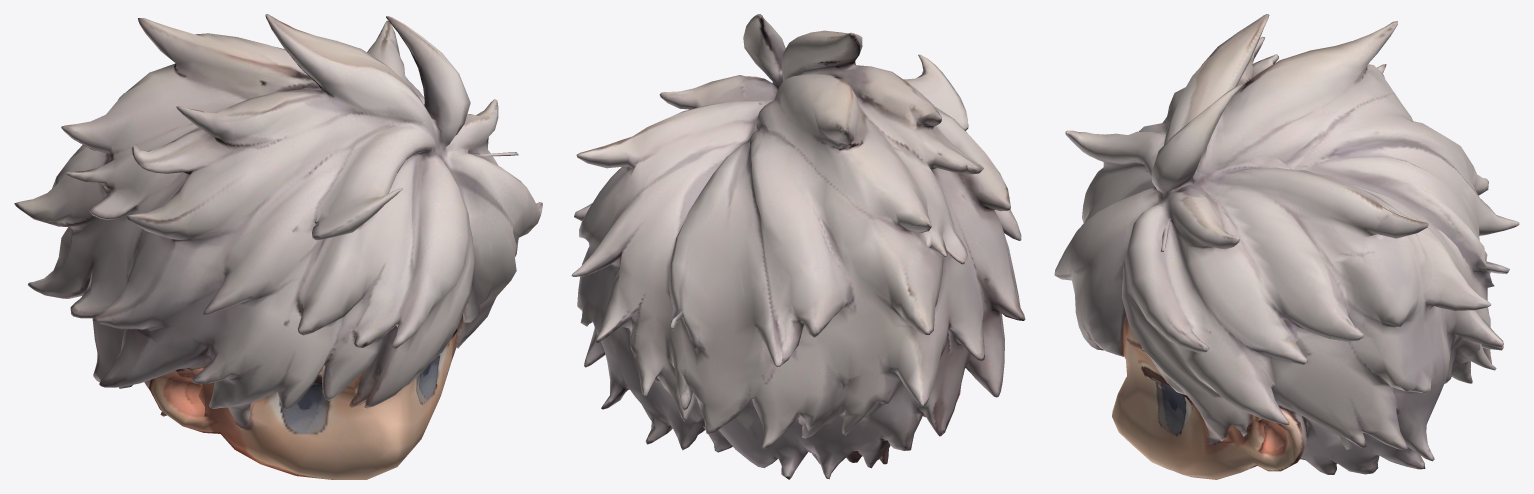
3 renders of one model, left to right at view 1: azimuth 30°, elevation 25°; view 2: azimuth 150°, elevation 25°; view 3: azimuth 270°, elevation 25°, orthographic. The views are drawn at different scales.
Parts seen in each view (by area): view 1: tripo_node_f1868e36-954b-4037-9954-8412ab115170; view 2: tripo_node_f1868e36-954b-4037-9954-8412ab115170; view 3: tripo_node_f1868e36-954b-4037-9954-8412ab115170.
Part boxes in pixels (x1,y1,x2,y2): tripo_node_f1868e36-954b-4037-9954-8412ab115170: (14, 14, 542, 479); tripo_node_f1868e36-954b-4037-9954-8412ab115170: (571, 14, 1025, 479); tripo_node_f1868e36-954b-4037-9954-8412ab115170: (1054, 14, 1519, 479).
Size of the model in its own units: 0.4305 by 0.4227 by 0.4218.
Materials: 1 (1 with a texture image).
